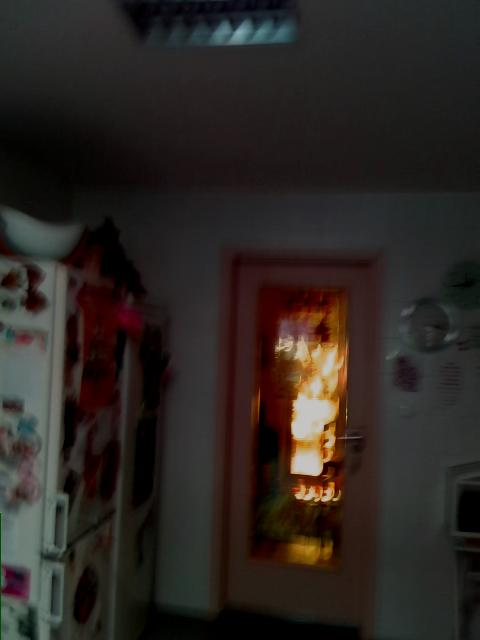closed_door: (215, 246, 385, 639)
